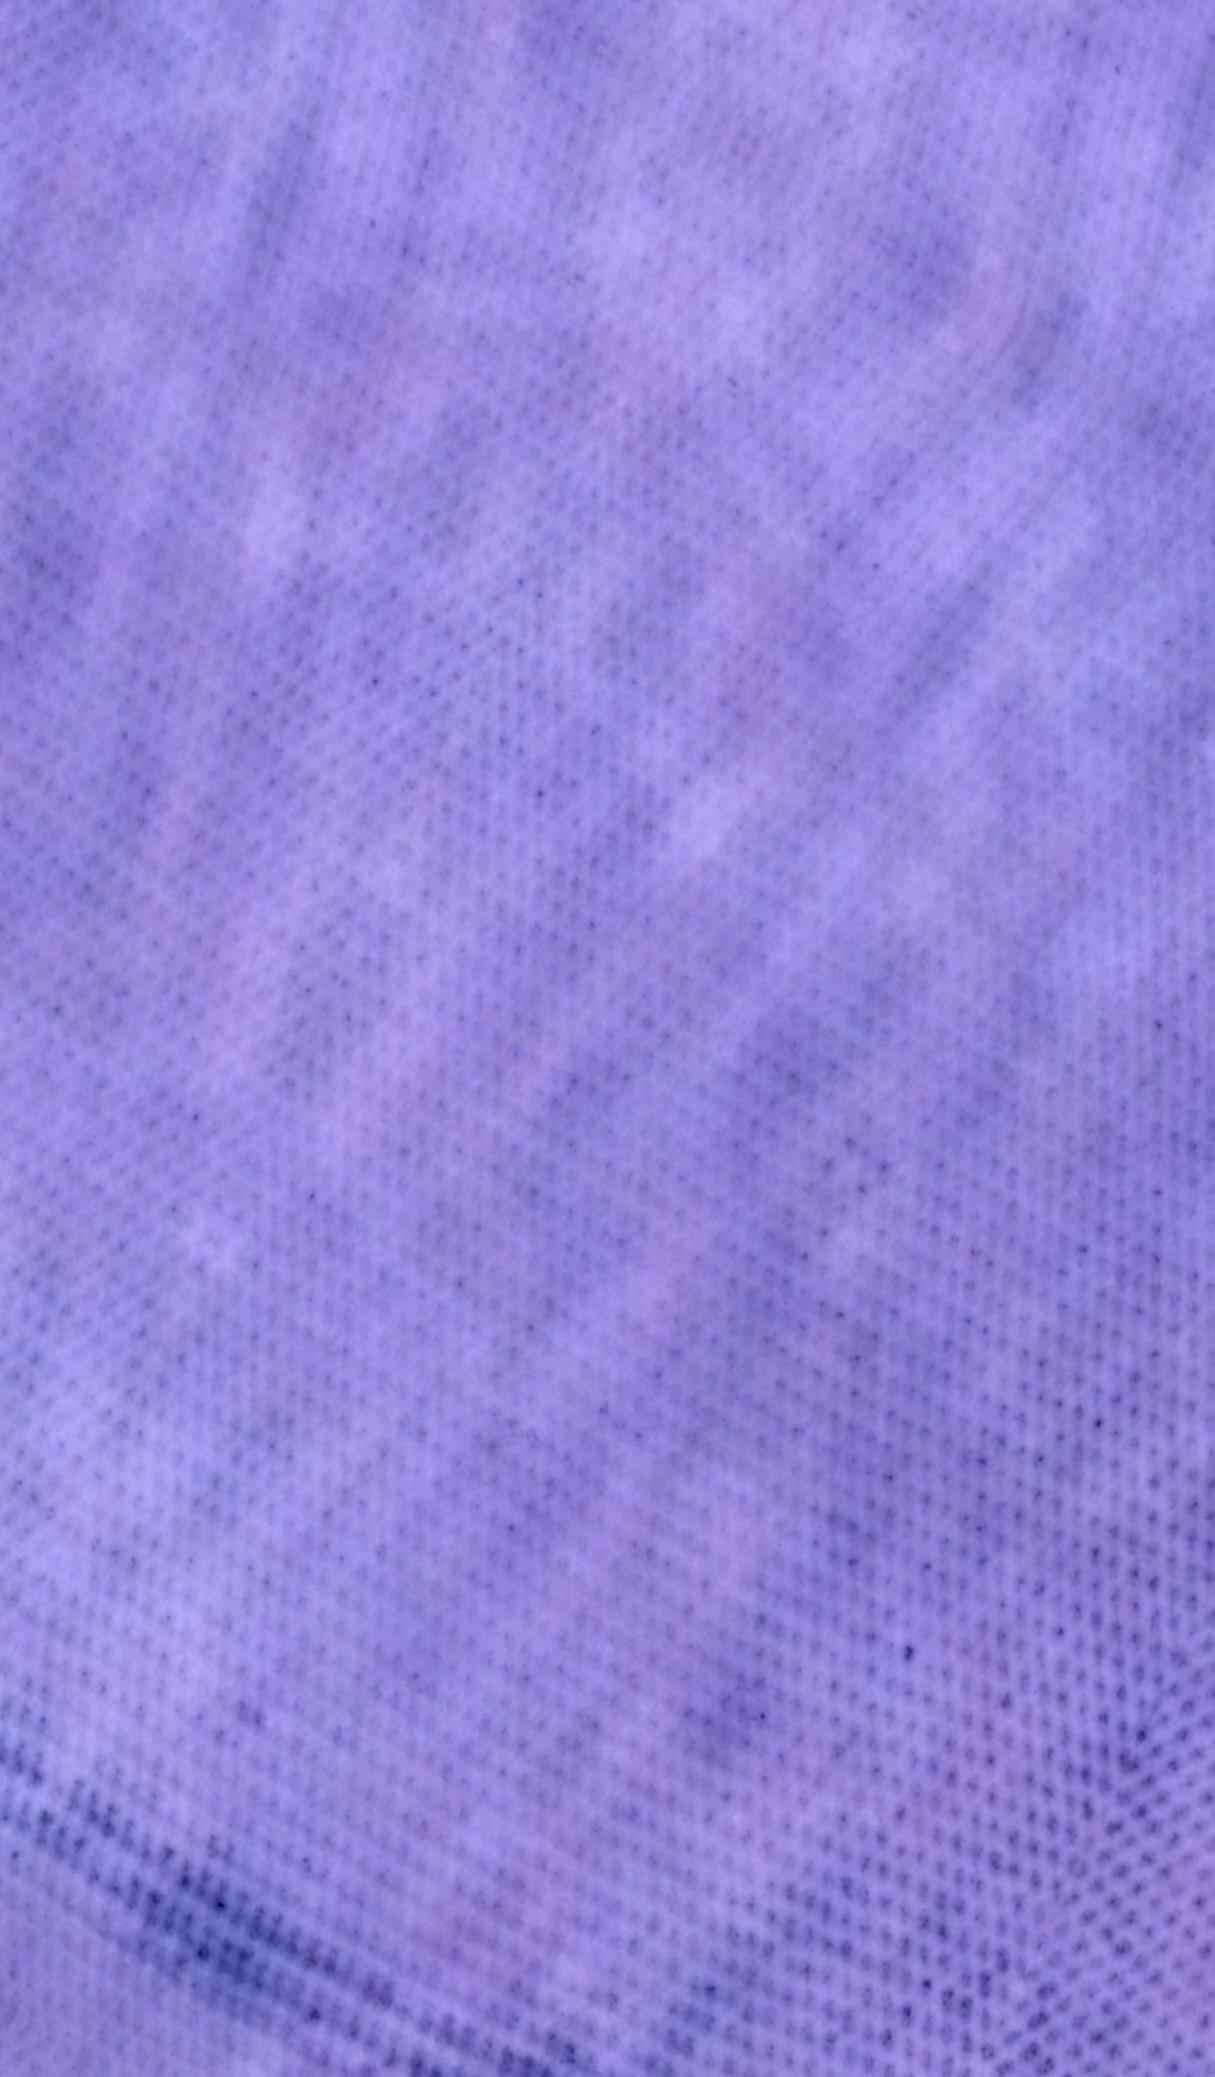slub: (4, 1711, 606, 2071)
